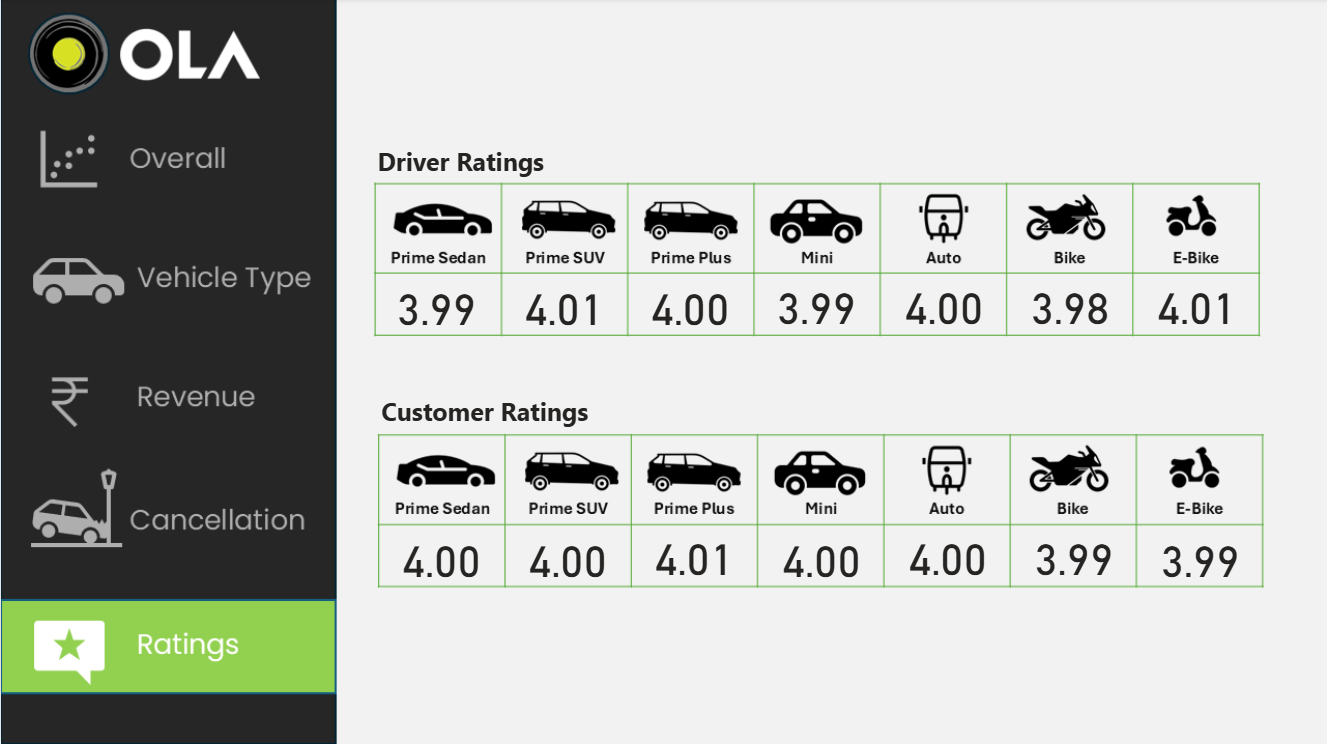

The dashboard page shown, as its layout file describes it:
{"tool":"powerbi","page":{"name":"Ratings","canvas":[1280,720],"ordinal":4},"visuals":[{"type":"actionButton","box":[0,223.2,326.9,91.7],"z":0},{"type":"actionButton","box":[0,343.8,326.9,91.7],"z":1000},{"type":"actionButton","box":[0,113.4,326.9,91.7],"z":2000},{"type":"actionButton","box":[0,458.4,326.9,91.7],"z":3001},{"type":"textbox","box":[358.3,136.3,185.8,57.9],"z":3002},{"type":"textbox","box":[361.9,377.6,226.8,57.9],"z":3003},{"type":"card","fields":{"Values":["Avg(Bookings.Driver_Ratings)"]},"box":[362.4,267.3,117.3,57.9],"z":3004},{"type":"card","fields":{"Values":["Avg(Bookings.Driver_Ratings)"]},"box":[485,267.8,117,57.9],"z":3005},{"type":"card","fields":{"Values":["Avg(Bookings.Driver_Ratings)"]},"box":[606.8,267.8,117,57.9],"z":3006},{"type":"card","fields":{"Values":["Avg(Bookings.Driver_Ratings)"]},"box":[728.7,266.6,117,57.9],"z":3007},{"type":"card","fields":{"Values":["Avg(Bookings.Driver_Ratings)"]},"box":[851.7,266.6,117,57.9],"z":3008},{"type":"card","fields":{"Values":["Avg(Bookings.Driver_Ratings)"]},"box":[973.6,266.6,117,57.9],"z":3009},{"type":"card","fields":{"Values":["Avg(Bookings.Driver_Ratings)"]},"box":[1095.4,266.6,117,57.9],"z":3010},{"type":"card","fields":{"Values":["Avg(Bookings.Customer_Rating)"]},"box":[366.8,510.3,117,57.9],"z":3011},{"type":"card","fields":{"Values":["Avg(Bookings.Customer_Rating)"]},"box":[488.6,510.3,117,57.9],"z":3012},{"type":"card","fields":{"Values":["Avg(Bookings.Customer_Rating)"]},"box":[610.5,509.1,117,57.9],"z":3013},{"type":"card","fields":{"Values":["Avg(Bookings.Customer_Rating)"]},"box":[733.5,510.3,117,57.9],"z":3014},{"type":"card","fields":{"Values":["Avg(Bookings.Customer_Rating)"]},"box":[855.4,509.1,117,57.9],"z":3015},{"type":"card","fields":{"Values":["Avg(Bookings.Customer_Rating)"]},"box":[977.2,509.1,117,57.9],"z":3016},{"type":"card","fields":{"Values":["Avg(Bookings.Customer_Rating)"]},"box":[1099.1,510.3,117,57.9],"z":3017}]}

Visuals, with their boxes on the page's 1280x720 design canvas (x1, y1, x2, y2). These are canvas units, not pixel positions in the 1327x744 screenshot, which may show the page scaled, cropped or inside an application window:
actionButton: 0 223 327 315
actionButton: 0 344 327 436
actionButton: 0 113 327 205
actionButton: 0 458 327 550
textbox: 358 136 544 194
textbox: 362 378 589 436
card - Avg(Bookings.Driver_Ratings): 362 267 480 325
card - Avg(Bookings.Driver_Ratings): 485 268 602 326
card - Avg(Bookings.Driver_Ratings): 607 268 724 326
card - Avg(Bookings.Driver_Ratings): 729 267 846 324
card - Avg(Bookings.Driver_Ratings): 852 267 969 324
card - Avg(Bookings.Driver_Ratings): 974 267 1091 324
card - Avg(Bookings.Driver_Ratings): 1095 267 1212 324
card - Avg(Bookings.Customer_Rating): 367 510 484 568
card - Avg(Bookings.Customer_Rating): 489 510 606 568
card - Avg(Bookings.Customer_Rating): 610 509 728 567
card - Avg(Bookings.Customer_Rating): 734 510 850 568
card - Avg(Bookings.Customer_Rating): 855 509 972 567
card - Avg(Bookings.Customer_Rating): 977 509 1094 567
card - Avg(Bookings.Customer_Rating): 1099 510 1216 568
